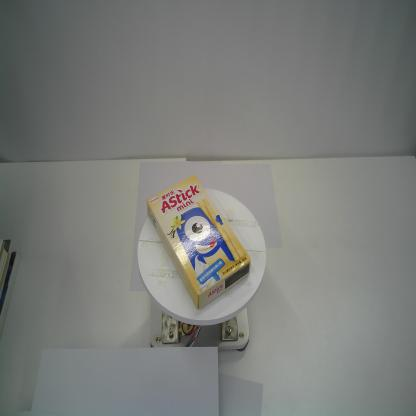Dessert: (146, 175, 249, 311)
